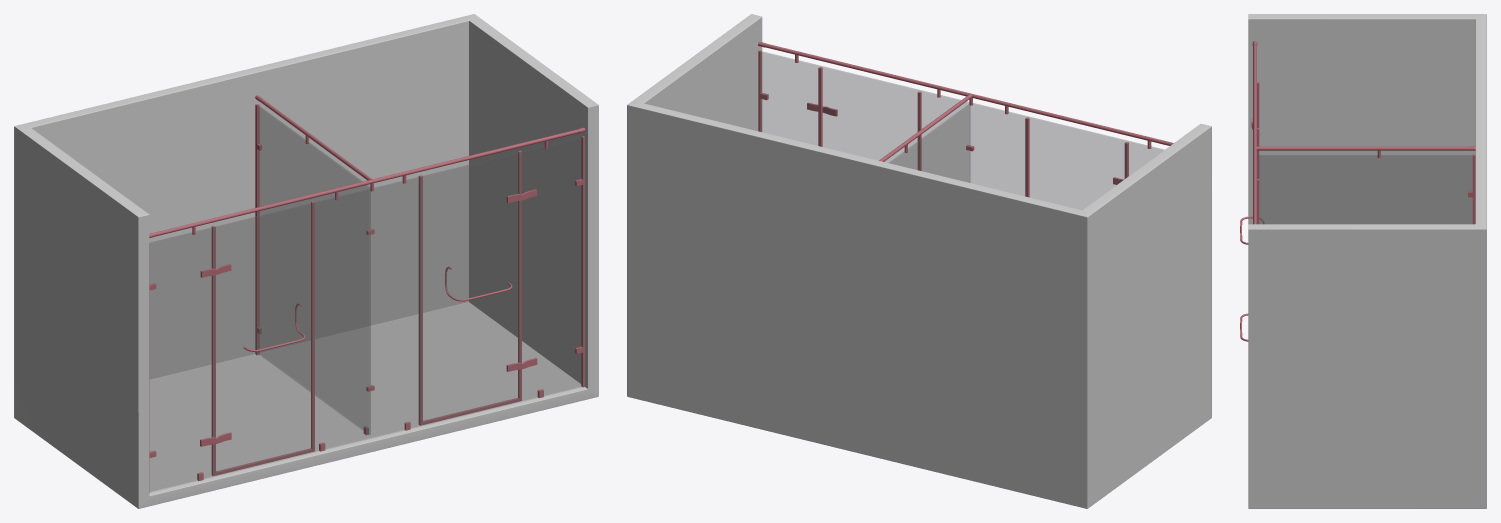
The model's file is Shower_enclosures_011(RoseGold.).gltf.
The picture shows the model from 3 angles, left to right: view 1: azimuth 30°, elevation 25°; view 2: azimuth 150°, elevation 25°; view 3: azimuth 270°, elevation 25°; orthographic projection. The views are drawn at different scales.
Visible parts, largest first — view 1: Shower_enclosures_011.007; view 2: Shower_enclosures_011.007; view 3: Shower_enclosures_011.007.
Boxes of the visible parts, <box> form: Shower_enclosures_011.007: <box>14,14,598,508</box>; Shower_enclosures_011.007: <box>627,14,1211,508</box>; Shower_enclosures_011.007: <box>1240,14,1486,508</box>.
Size of the model in its own units: 3.31 by 2 by 1.6.
2 materials, 2 textured.
